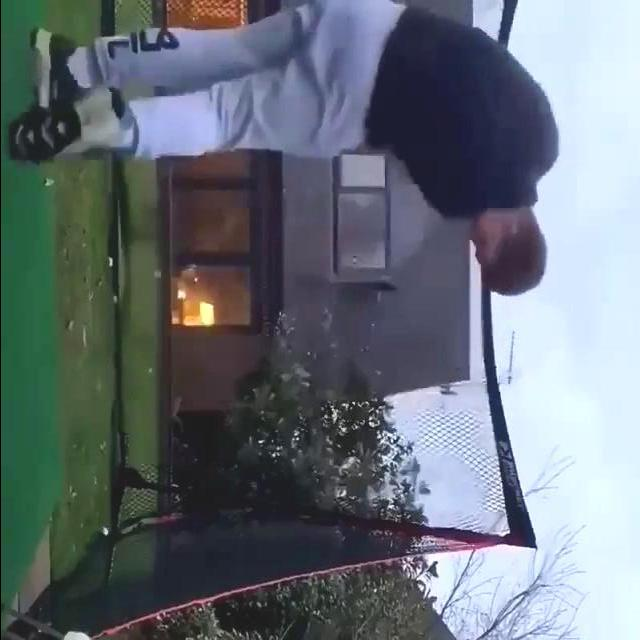golf ball: (102, 527, 109, 535), (107, 257, 113, 266)
